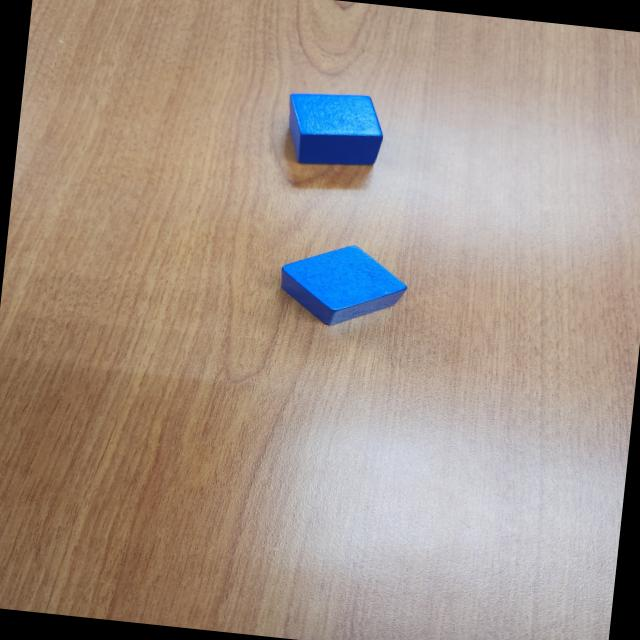blue: (276, 238, 412, 334), (282, 86, 388, 172)
